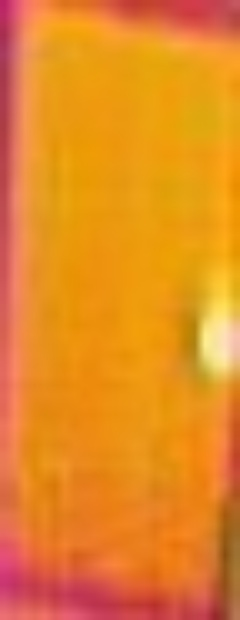Hotspot: (194, 257, 238, 381)
